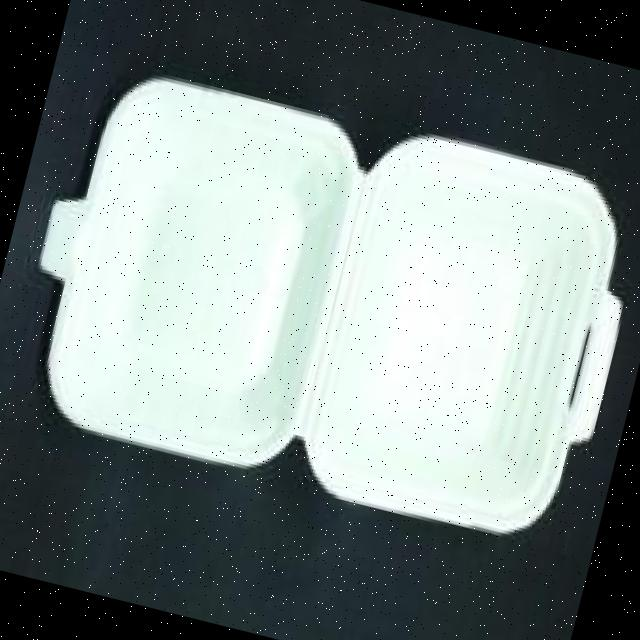styrofoam: (0, 43, 640, 555)
